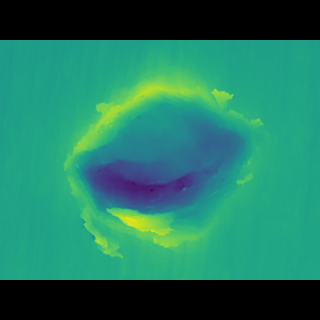Loch: (60, 81, 275, 235)
